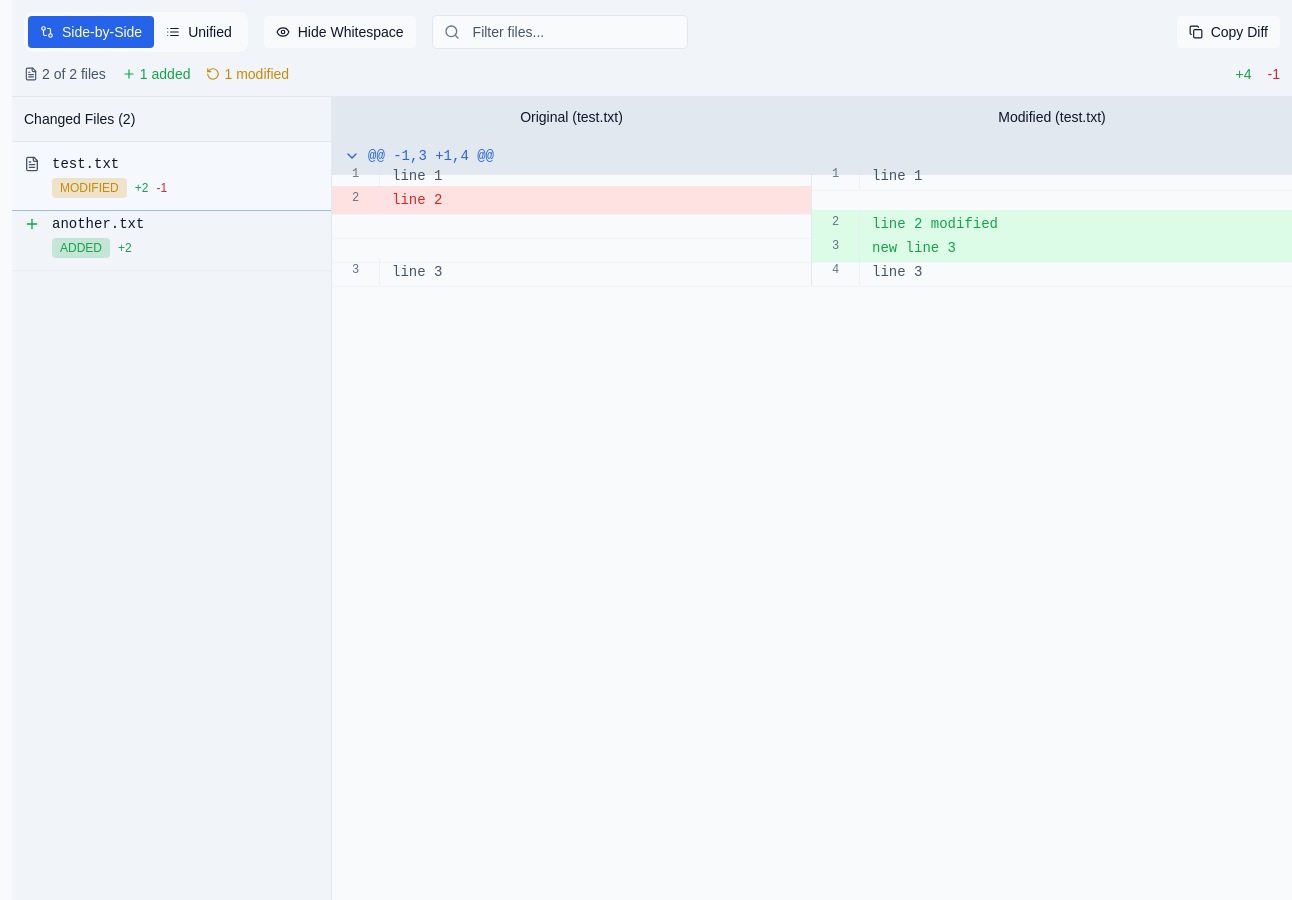
Test: DiffViewer › should filter files by search query
Type "another" into the field with placeholder "Filter files..." at (560, 32), box [432,15,688,49]
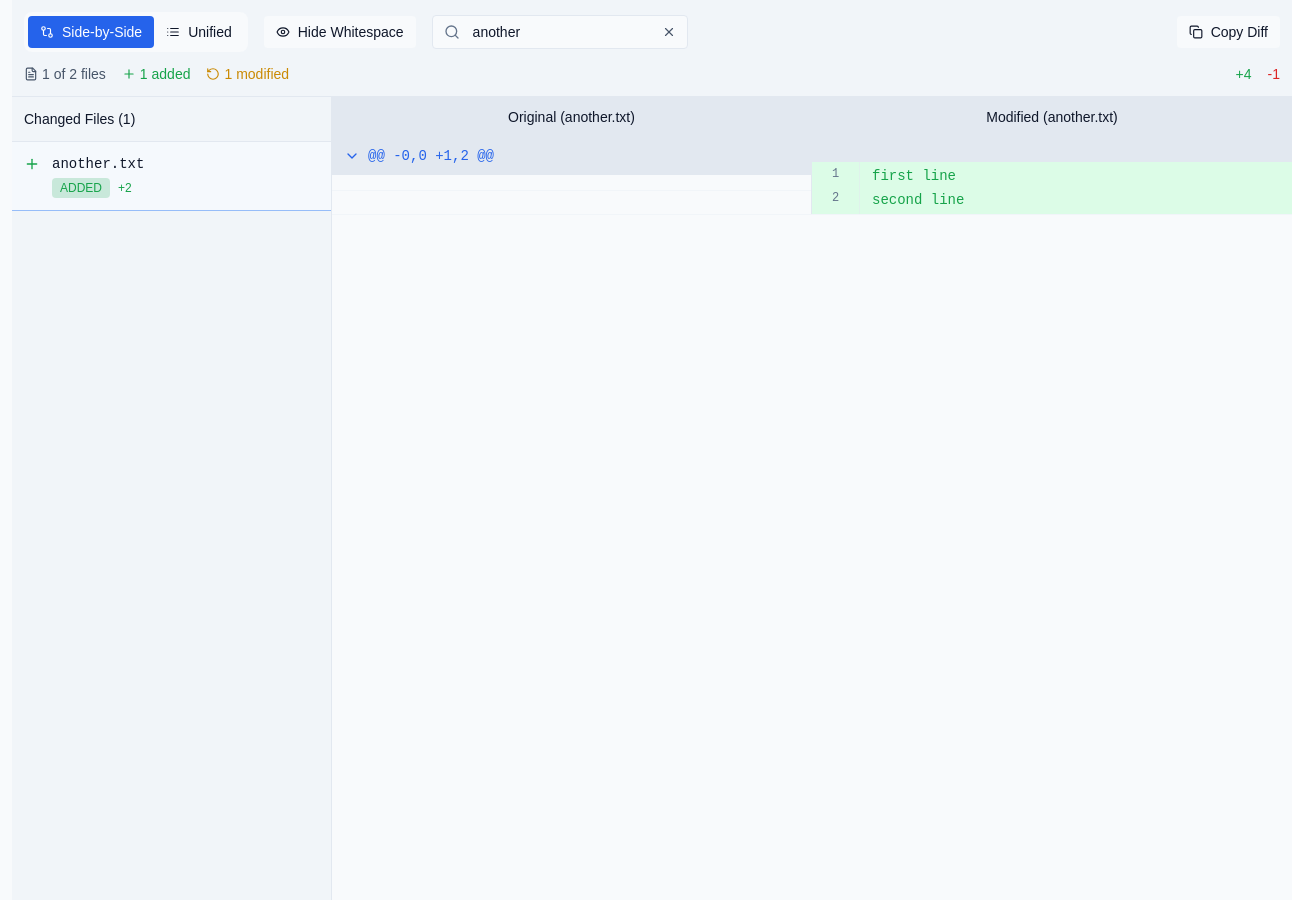
Expected: the text "1 of 2 files" is shown, [42,64,106,84]
